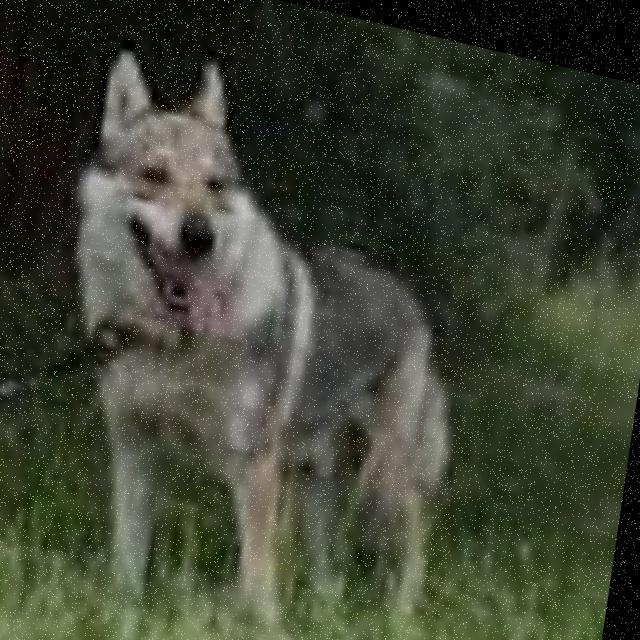dog: (1, 36, 530, 640)
